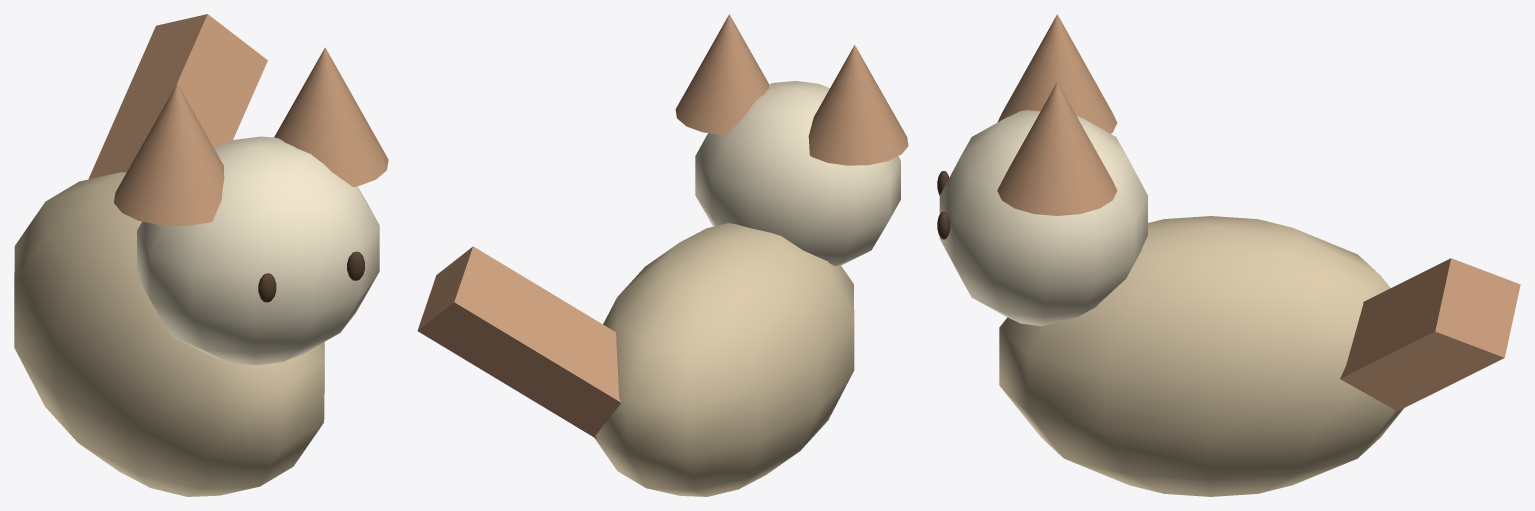
Rendered from cat.glb.
The picture shows the model from 3 angles, left to right: view 1: azimuth 30°, elevation 25°; view 2: azimuth 150°, elevation 25°; view 3: azimuth 270°, elevation 25°; orthographic projection. The views are drawn at different scales.
Parts seen in each view (by area): view 1: _MeshInstance3D_286, _MeshInstance3D_287, _MeshInstance3D_292, _MeshInstance3D_288, _MeshInstance3D_290, _MeshInstance3D_289, _MeshInstance3D_291; view 2: _MeshInstance3D_286, _MeshInstance3D_287, _MeshInstance3D_292, _MeshInstance3D_288, _MeshInstance3D_290; view 3: _MeshInstance3D_286, _MeshInstance3D_287, _MeshInstance3D_292, _MeshInstance3D_290, _MeshInstance3D_288.
Part boxes in pixels (x1=…): _MeshInstance3D_286: x1=14, y1=172, x2=324, y2=496; _MeshInstance3D_287: x1=137, y1=136, x2=379, y2=365; _MeshInstance3D_292: x1=88, y1=14, x2=267, y2=179; _MeshInstance3D_288: x1=114, y1=83, x2=224, y2=225; _MeshInstance3D_290: x1=274, y1=47, x2=388, y2=186; _MeshInstance3D_289: x1=258, y1=273, x2=276, y2=302; _MeshInstance3D_291: x1=347, y1=251, x2=364, y2=280; _MeshInstance3D_286: x1=594, y1=223, x2=854, y2=496; _MeshInstance3D_287: x1=695, y1=81, x2=900, y2=266; _MeshInstance3D_292: x1=417, y1=246, x2=621, y2=439; _MeshInstance3D_288: x1=808, y1=45, x2=908, y2=165; _MeshInstance3D_290: x1=675, y1=14, x2=768, y2=134; _MeshInstance3D_286: x1=999, y1=216, x2=1403, y2=496; _MeshInstance3D_287: x1=939, y1=110, x2=1147, y2=326; _MeshInstance3D_292: x1=1340, y1=258, x2=1520, y2=412; _MeshInstance3D_290: x1=997, y1=82, x2=1117, y2=215; _MeshInstance3D_288: x1=997, y1=14, x2=1117, y2=133.
Bounding box in the file's own units: 0.564 × 0.725 × 0.8737.
